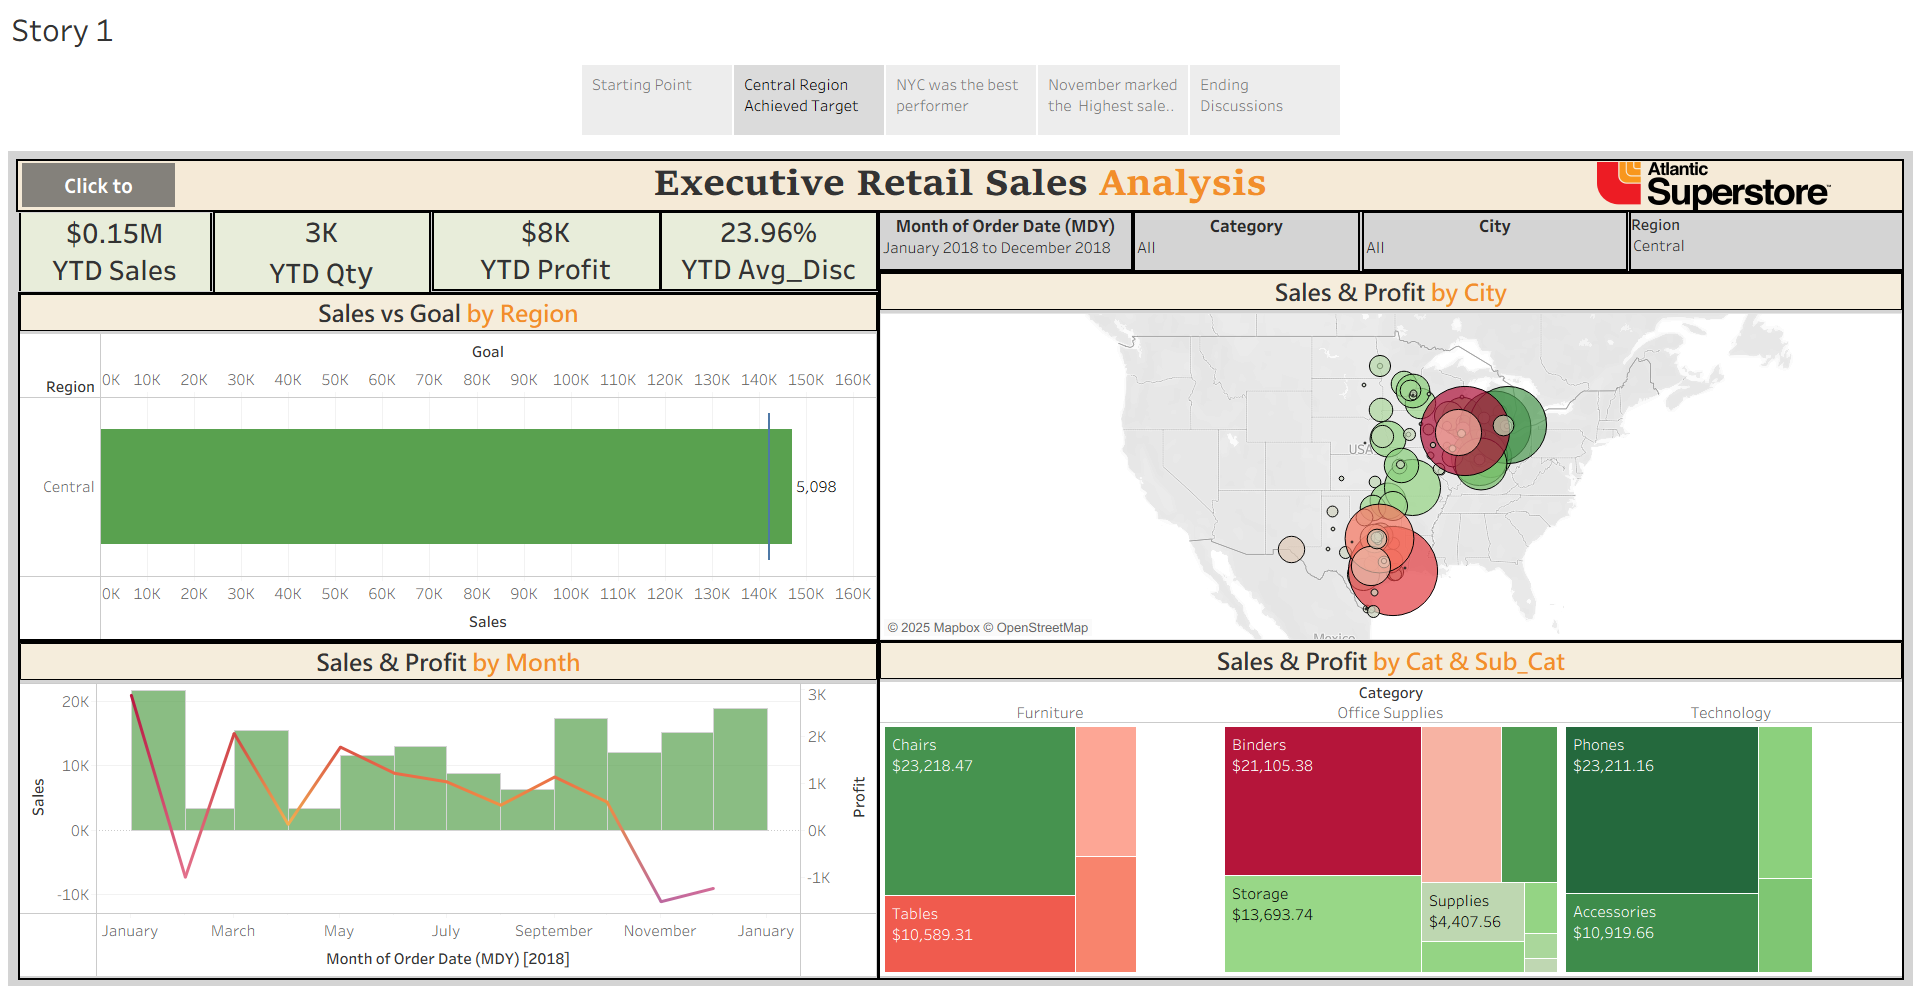

The page's visual inventory and layout, read from the dashboard file:
{"tool":"tableau","page":{"name":"Dashboard 1","canvas":[1000,1000],"units":"permille","ordinal":0},"visuals":[{"type":"title","box":[4.8,10,990.3,63.6]},{"type":"image","param":"Image/atlantic-superstore-2017.svg","box":[834.6,13.7,158.7,59.9]},{"type":"dashboard-object","box":[7.2,15,80.3,52.4]},{"type":"worksheet","title":"Quantity","mark":"Automatic","box":[105,69.9,122.5,116.1]},{"type":"worksheet","title":"Profit","mark":"Automatic","box":[226.3,69.9,97.2,119.9]},{"type":"worksheet","title":"Discount","mark":"Automatic","box":[322.3,69.9,135.2,216]},{"type":"worksheet","title":"Sales","mark":"Automatic","box":[4.2,72.4,102.6,99.9]},{"type":"filter","title":"Time_Series","param":"[federated.0xhq3lh1d73h9h12l06ax1aoxa5d].[tmn:Order Date (MDY):qk]","box":[456.9,72.4,134,71.2]},{"type":"filter","title":"Tree_Map","param":"[federated.0xhq3lh1d73h9h12l06ax1aoxa5d].[none:Category:nk]","box":[590.8,72.4,119.5,72.4]},{"type":"filter","title":"City_Wise","param":"[federated.0xhq3lh1d73h9h12l06ax1aoxa5d].[none:City:nk]","box":[710.9,72.4,140,71.2]},{"type":"filter","title":"Region_Wise","param":"[federated.0xhq3lh1d73h9h12l06ax1aoxa5d].[none:Region:nk]","box":[851.5,72.4,144.2,71.2]},{"type":"worksheet","title":"City_Wise","mark":"Automatic","box":[457.1,143.6,538.7,444.4]},{"type":"worksheet","title":"Region_Wise","mark":"Automatic","rows":["Region"],"cols":["Sales","Goal"],"box":[5.5,168.5,452.1,419.5]},{"type":"worksheet","title":"Tree_Map","mark":"Automatic","cols":["Category"],"box":[457.1,586.8,538.7,407]},{"type":"worksheet","title":"Time_Series","mark":"Automatic","rows":["Sales","Profit"],"cols":["Order Date (MDY)"],"box":[5.4,588,452.3,405.7]}]}

Visuals, with their boxes on the dashboard's canvas, which has no fixed pixel size, in thousandths of its width and height (x1, y1, x2, y2). These are canvas units, not pixel positions in the 1920x993 screenshot, which may show the page scaled, cropped or inside an application window:
title: left=5, top=10, right=995, bottom=74
image: left=835, top=14, right=993, bottom=74
dashboard-object: left=7, top=15, right=88, bottom=67
"Quantity" worksheet: left=105, top=70, right=228, bottom=186
"Profit" worksheet: left=226, top=70, right=324, bottom=190
"Discount" worksheet: left=322, top=70, right=458, bottom=286
"Sales" worksheet: left=4, top=72, right=107, bottom=172
"Time_Series" filter: left=457, top=72, right=591, bottom=144
"Tree_Map" filter: left=591, top=72, right=710, bottom=145
"City_Wise" filter: left=711, top=72, right=851, bottom=144
"Region_Wise" filter: left=852, top=72, right=996, bottom=144
"City_Wise" worksheet: left=457, top=144, right=996, bottom=588
"Region_Wise" worksheet: left=6, top=168, right=458, bottom=588
"Tree_Map" worksheet: left=457, top=587, right=996, bottom=994
"Time_Series" worksheet: left=5, top=588, right=458, bottom=994
